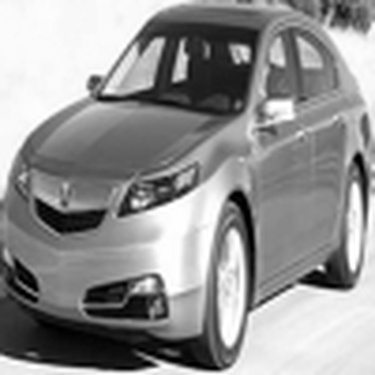car: (1, 7, 372, 372)
